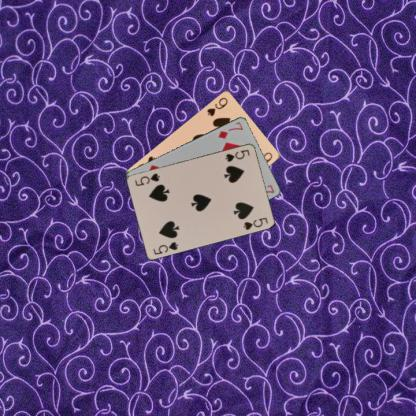5s: (150, 239, 180, 256), (222, 147, 251, 163)
7d: (216, 119, 245, 140)
9s: (204, 95, 229, 117)
